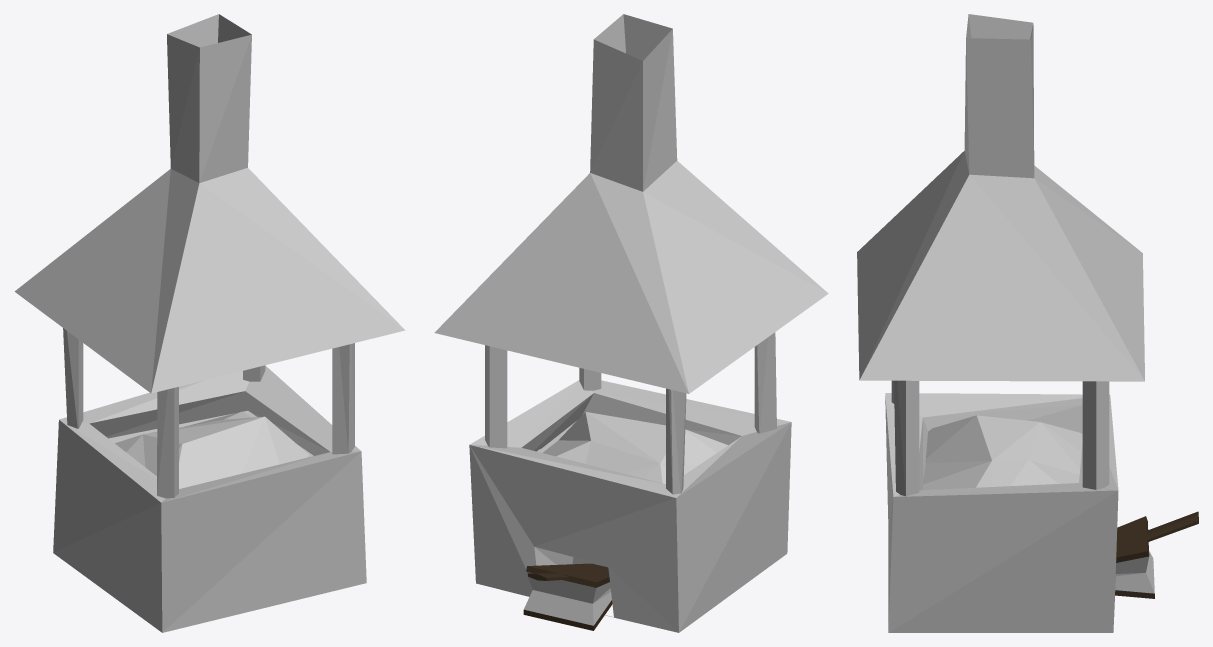
File: BSFIRE_OC.OBJ
3 renders of one model, left to right at view 1: azimuth 30°, elevation 25°; view 2: azimuth 150°, elevation 25°; view 3: azimuth 270°, elevation 25°, orthographic. The views are drawn at different scales.
Parts seen in each view (by area): view 1: BSFIRE_OC; view 2: BSFIRE_OC; view 3: BSFIRE_OC.
Part boxes in pixels (box(x1,y1,x2,y2)): BSFIRE_OC: box(14, 14, 405, 632); BSFIRE_OC: box(434, 14, 828, 632); BSFIRE_OC: box(857, 14, 1198, 632).
Bounding box in the file's own units: 1.91 × 3.84 × 2.14.
